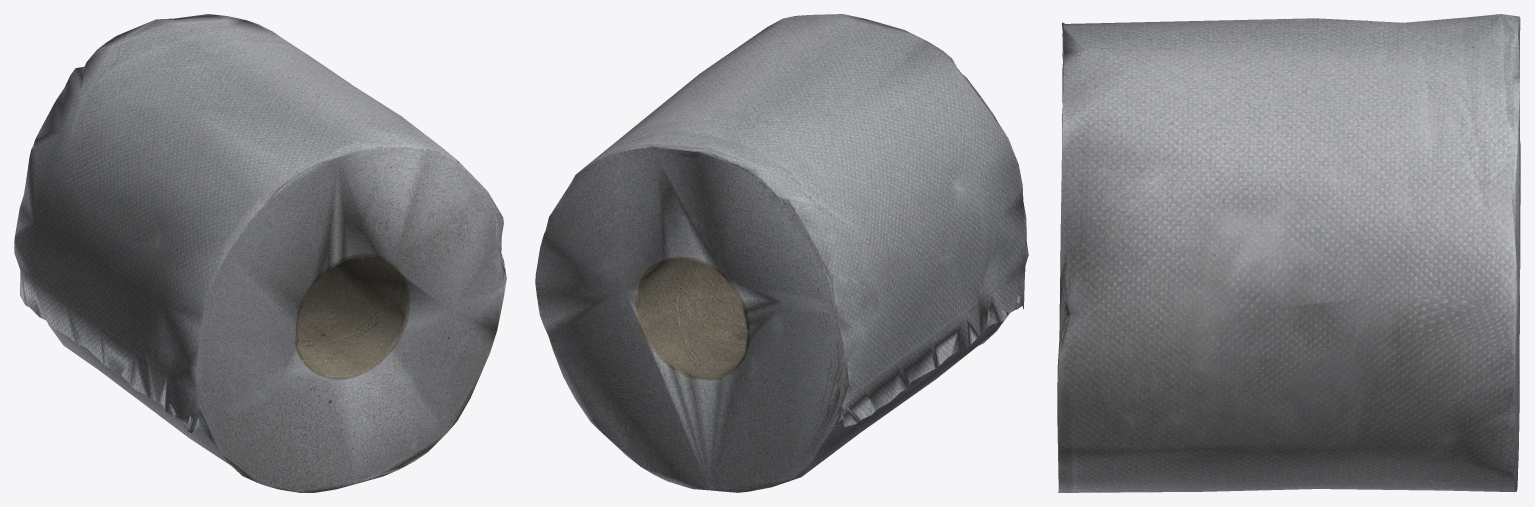
File: TheMuraka_Int_ToiletPaper.fbx
The picture shows the model from 3 angles, left to right: view 1: azimuth 30°, elevation 25°; view 2: azimuth 150°, elevation 25°; view 3: azimuth 270°, elevation 25°; orthographic projection. The views are drawn at different scales.
Parts seen in each view (by area): view 1: toilet_paper; view 2: toilet_paper; view 3: toilet_paper.
Boxes of the visible parts, box(x1,y1,x2,y2) form: toilet_paper: box(14, 14, 506, 492); toilet_paper: box(535, 14, 1028, 492); toilet_paper: box(1057, 14, 1520, 492).
Size of the model in its own units: 14.28 by 14.73 by 14.36.
